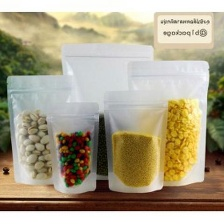snack: (54, 38, 159, 185), (122, 55, 214, 190), (2, 70, 77, 188), (100, 85, 172, 198), (43, 96, 102, 197)
